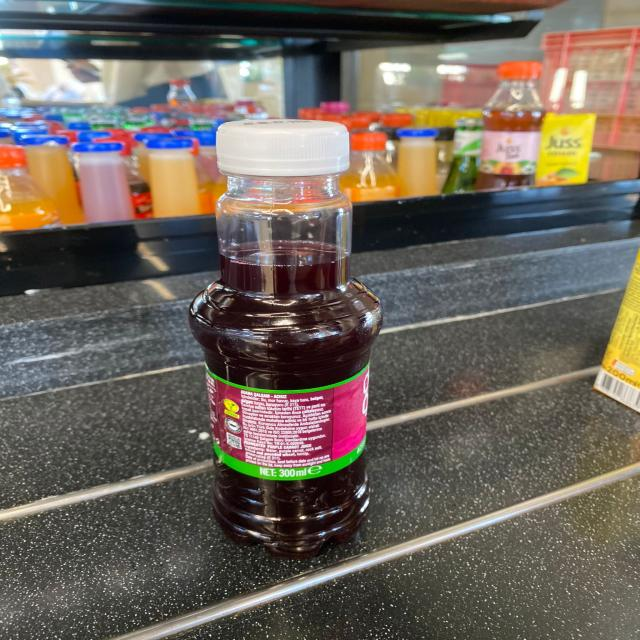yan_yemek: (187, 117, 383, 558)
